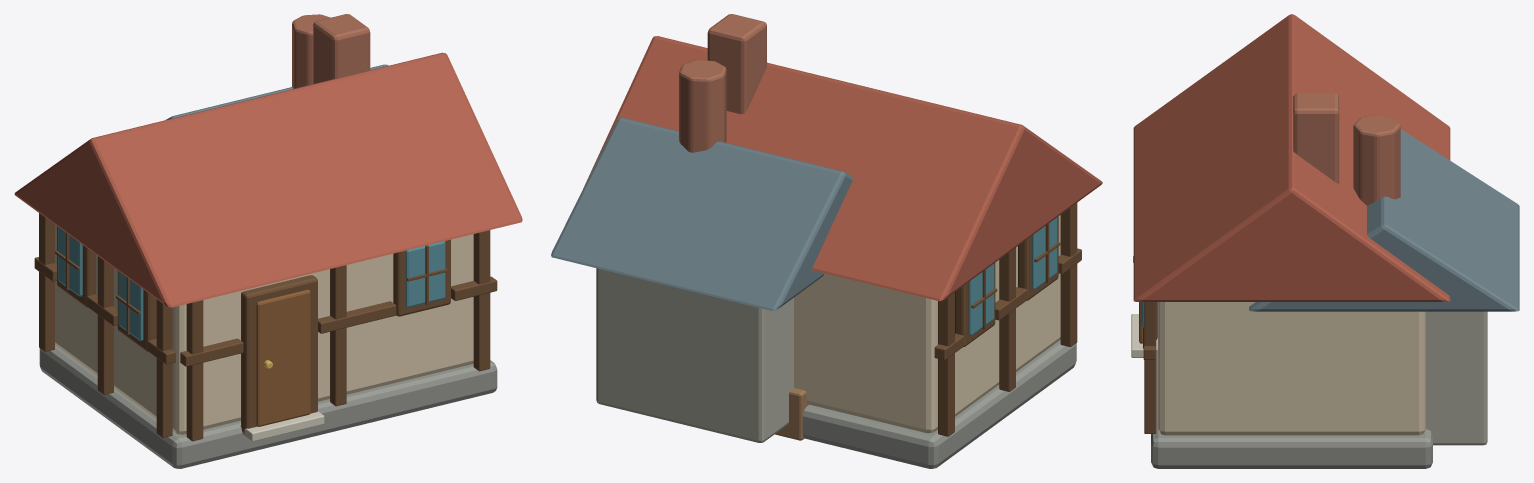
File: temperate-cottage-3.glb
3 renders of one model, left to right at view 1: azimuth 30°, elevation 25°; view 2: azimuth 150°, elevation 25°; view 3: azimuth 270°, elevation 25°, orthographic. The views are drawn at different scales.
Visible parts, largest first — view 1: Clay tiles, Ivory plaster, Dark beams, Foundation stone, Door oak, Chimney brick, Blue glass, Cut limestone; view 2: Clay tiles, Blue slate, Fieldstone, Ivory plaster, Dark beams, Foundation stone, Chimney brick, Blue glass, Aged oak; view 3: Clay tiles, Ivory plaster, Blue slate, Foundation stone, Fieldstone, Chimney brick, Dark beams, Cut limestone.
Part boxes in pixels (x1=…): Clay tiles: x1=14, y1=52, x2=522, y2=307; Ivory plaster: x1=55, y1=225, x2=473, y2=434; Dark beams: x1=34, y1=213, x2=497, y2=441; Foundation stone: x1=39, y1=345, x2=497, y2=468; Door oak: x1=256, y1=289, x2=310, y2=426; Chimney brick: x1=292, y1=14, x2=370, y2=88; Blue glass: x1=58, y1=227, x2=445, y2=340; Cut limestone: x1=239, y1=411, x2=324, y2=441; Clay tiles: x1=583, y1=36, x2=1102, y2=301; Blue slate: x1=551, y1=117, x2=852, y2=310; Fieldstone: x1=596, y1=268, x2=793, y2=442; Ivory plaster: x1=794, y1=215, x2=1060, y2=433; Dark beams: x1=934, y1=203, x2=1081, y2=436; Foundation stone: x1=802, y1=340, x2=1076, y2=468; Chimney brick: x1=679, y1=14, x2=766, y2=152; Blue glass: x1=968, y1=217, x2=1057, y2=335; Aged oak: x1=775, y1=388, x2=808, y2=440; Clay tiles: x1=1133, y1=14, x2=1450, y2=301; Ivory plaster: x1=1158, y1=302, x2=1425, y2=435; Blue slate: x1=1249, y1=129, x2=1519, y2=311; Foundation stone: x1=1151, y1=302, x2=1432, y2=468; Fieldstone: x1=1425, y1=311, x2=1487, y2=445; Chimney brick: x1=1293, y1=93, x2=1400, y2=205; Dark beams: x1=1139, y1=302, x2=1157, y2=433; Cut limestone: x1=1131, y1=314, x2=1157, y2=357.
Size of the model in its own units: 3.44 by 3.02 by 3.19.
